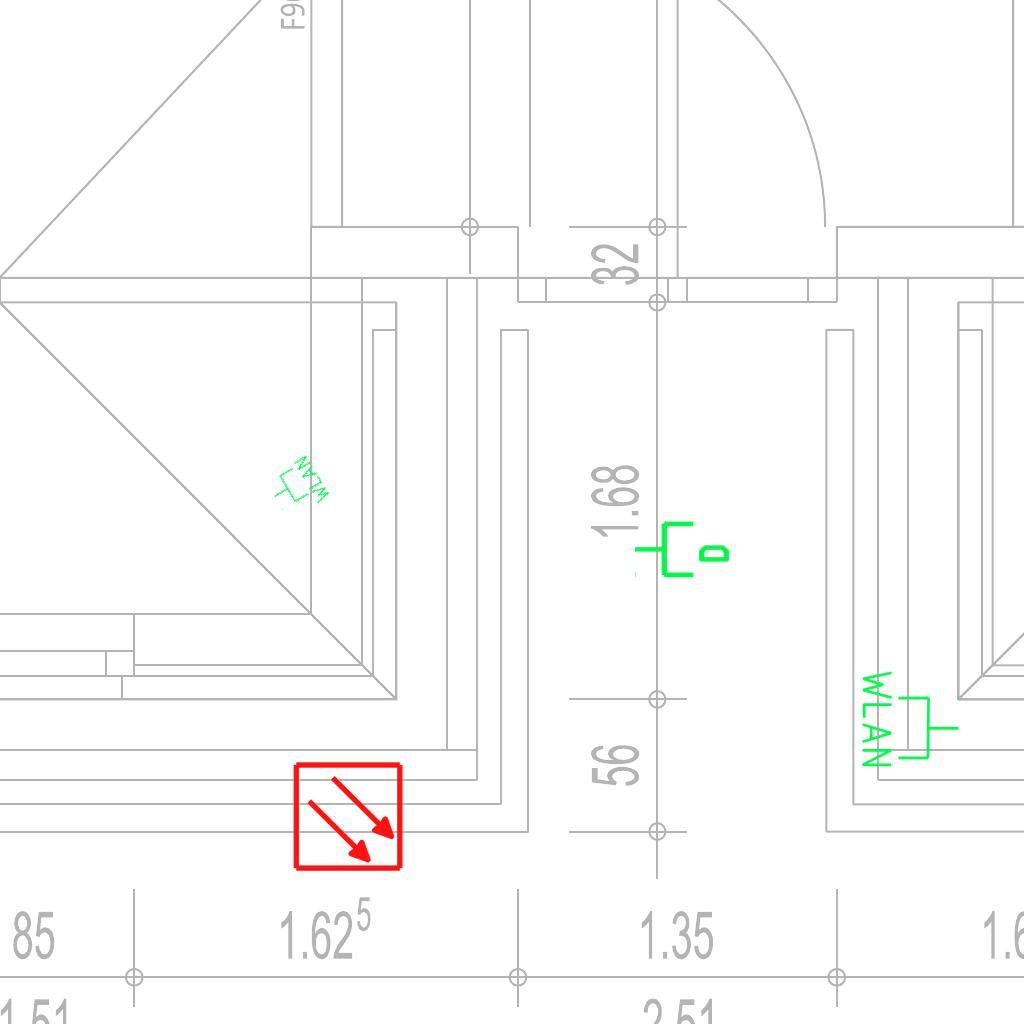Datenanschluss_einfach: (632, 513, 732, 582)
RMO_Rauchmelder_optischer: (292, 760, 405, 873)
WLAN: (858, 666, 962, 771), (262, 452, 334, 524)
